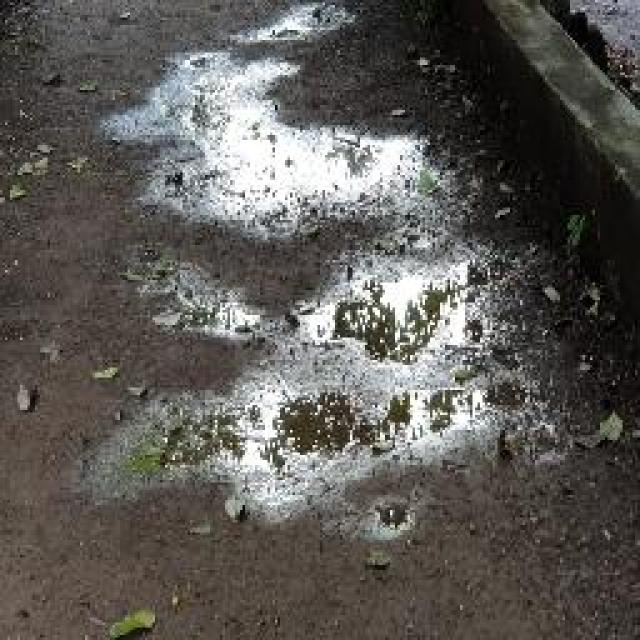puddle: (140, 53, 420, 231), (137, 385, 541, 495), (162, 257, 513, 364)
